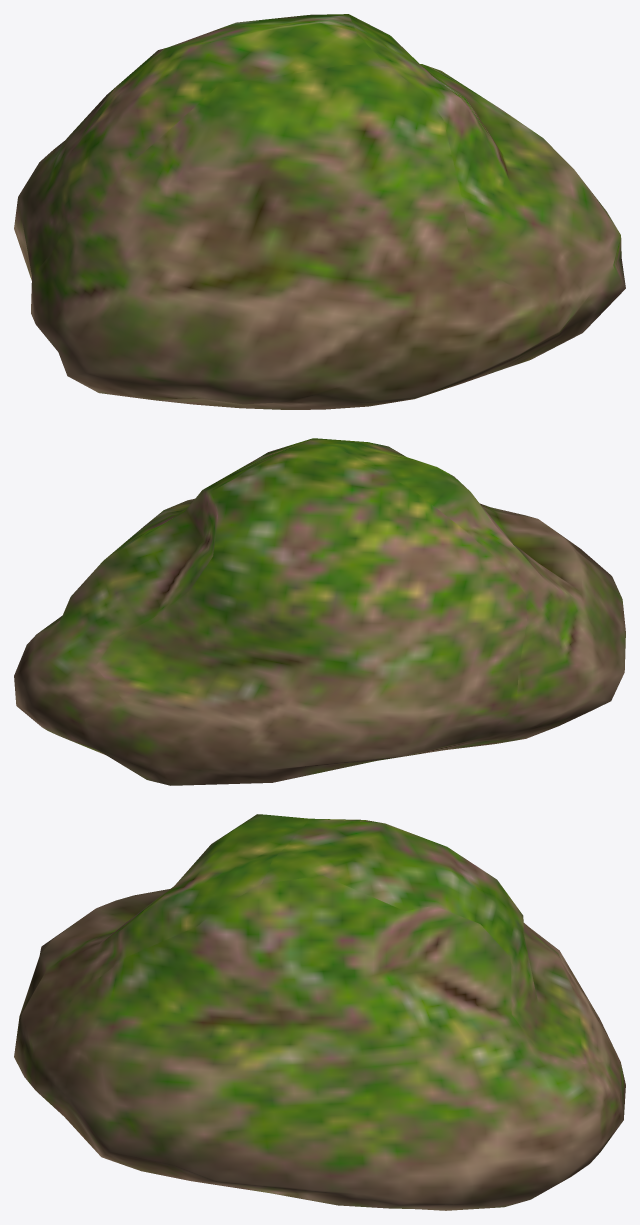
Rendered from sb_obj_nature006_Stone04b.fbx.
The picture shows the model from 3 angles, top to bottom: view 1: azimuth 30°, elevation 25°; view 2: azimuth 150°, elevation 25°; view 3: azimuth 270°, elevation 25°; orthographic projection. The views are drawn at different scales.
Visible parts, largest first — view 1: sb_obj_nature006_Stone04b; view 2: sb_obj_nature006_Stone04b; view 3: sb_obj_nature006_Stone04b.
Part boxes in pixels (<box>): sb_obj_nature006_Stone04b: <box>14,14,625,409</box>; sb_obj_nature006_Stone04b: <box>14,438,625,785</box>; sb_obj_nature006_Stone04b: <box>14,814,625,1210</box>.
Bounding box in the file's own units: 0.6374 × 0.3119 × 0.6467.
